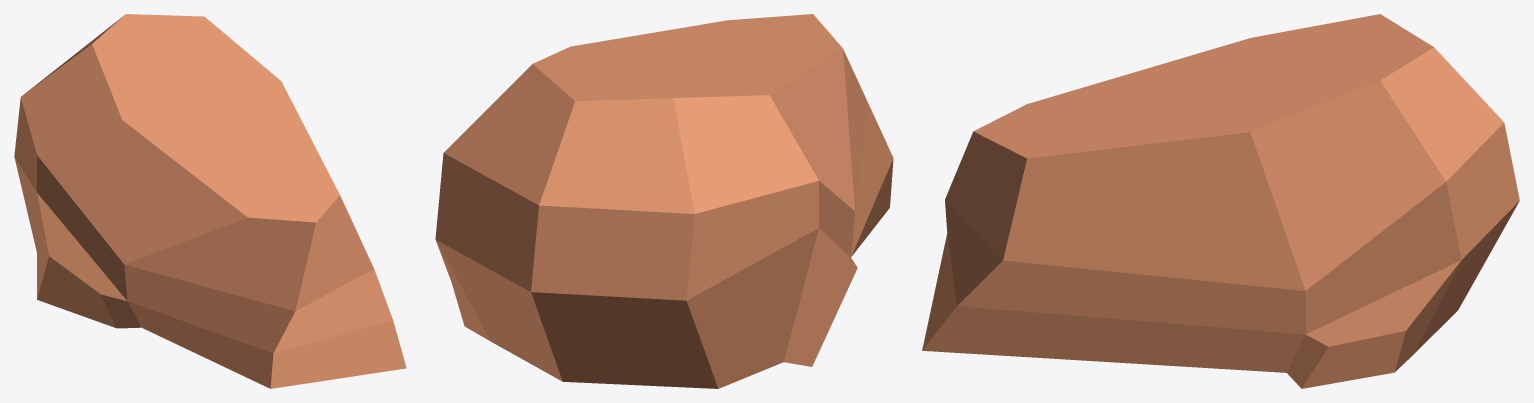
Rendered from Stone009.fbx.
3 views of the same model, side by side, from view 1: azimuth 30°, elevation 25°; view 2: azimuth 150°, elevation 25°; view 3: azimuth 270°, elevation 25° (orthographic). The views are drawn at different scales.
Visible parts, largest first — view 1: Stone009; view 2: Stone009; view 3: Stone009.
Part boxes in pixels (bbox=[...]): Stone009: bbox=[14, 14, 406, 388]; Stone009: bbox=[435, 14, 893, 388]; Stone009: bbox=[922, 14, 1519, 388].
Size of the model in its own units: 2.26 by 1.65 by 3.4.
